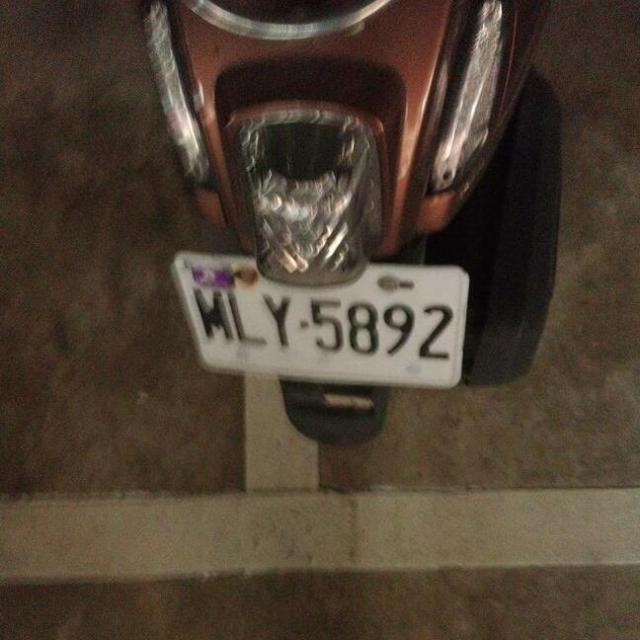W: (164, 232, 478, 405)
